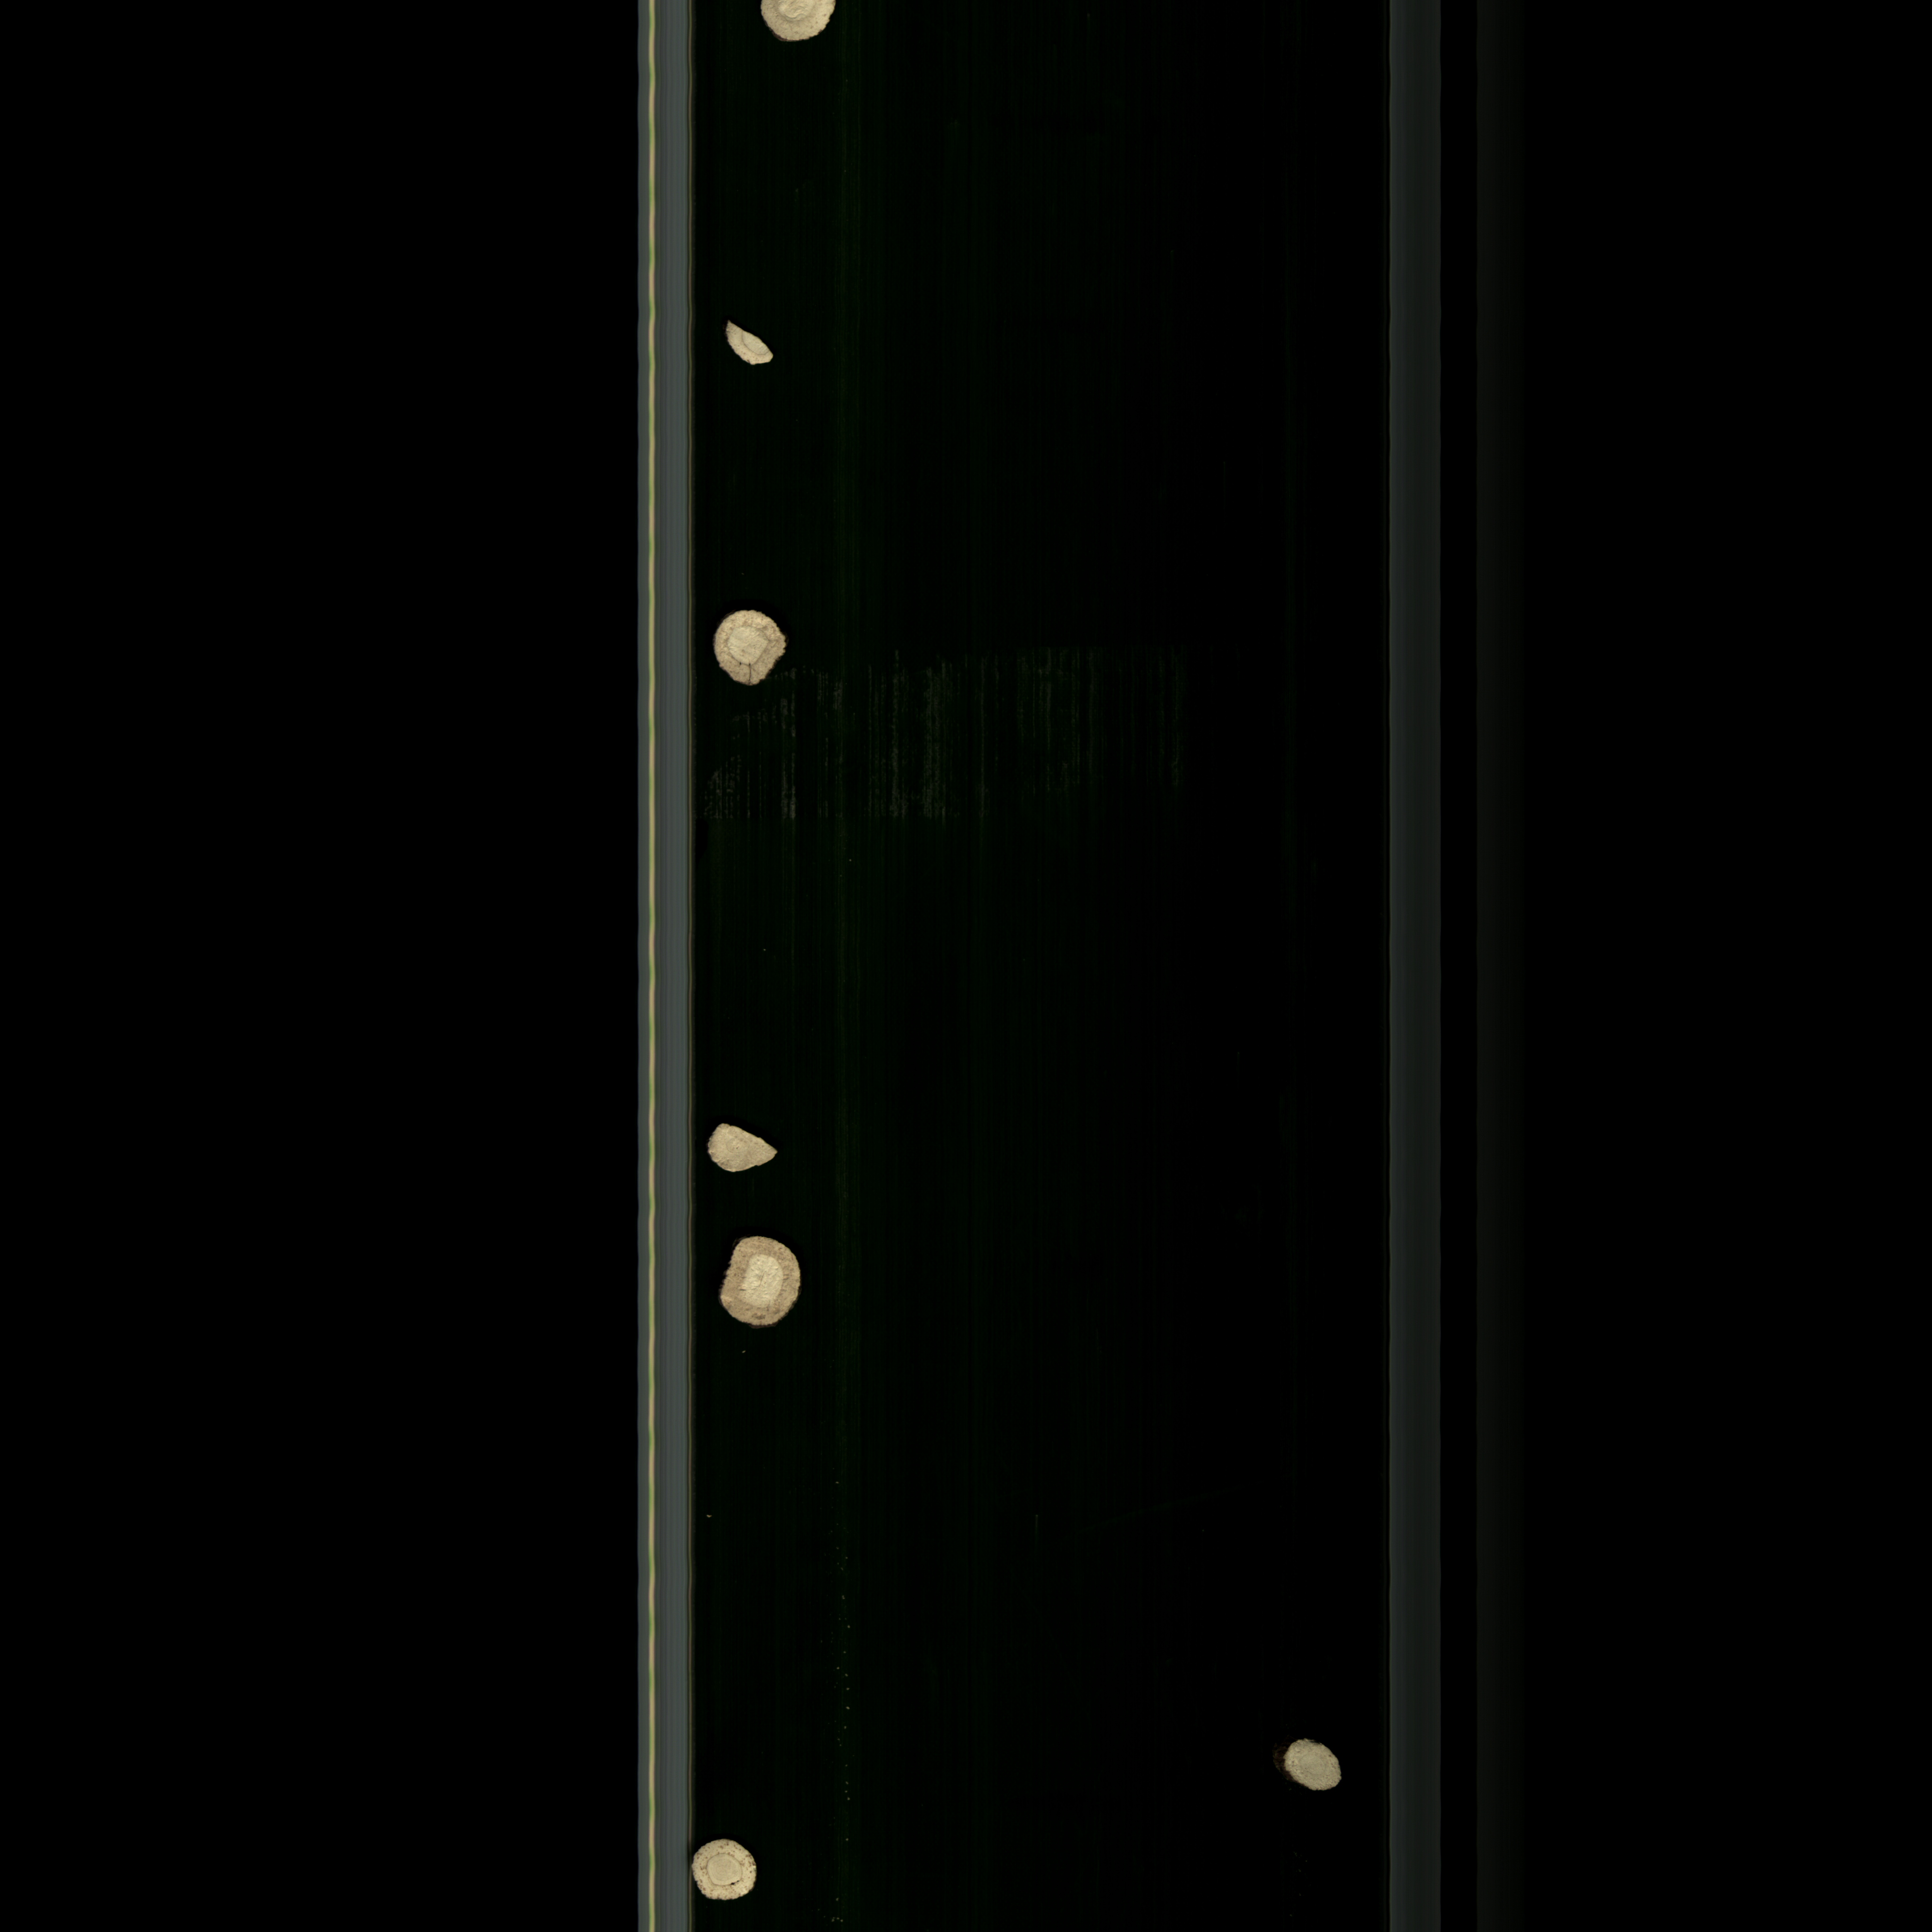debris: (701, 1120, 796, 1177)
distortion: (1274, 1729, 1352, 1803)
dreg: (715, 315, 784, 373)
moldy: (713, 1226, 814, 1334)
